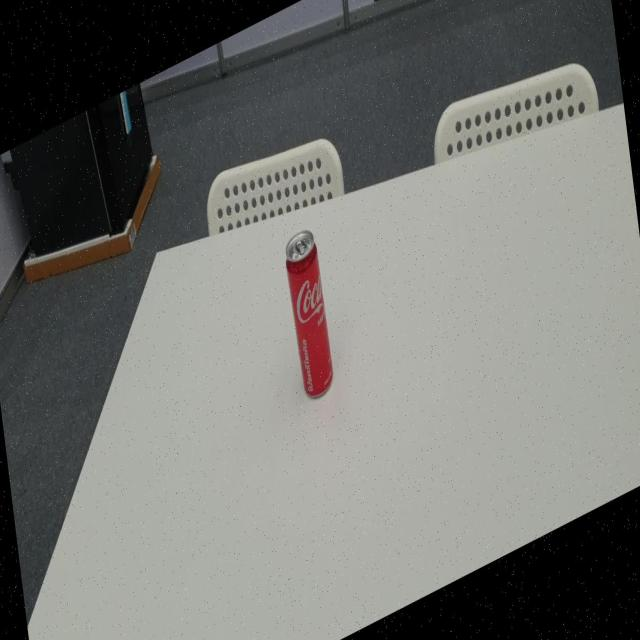coca-cola: (280, 219, 338, 411)
